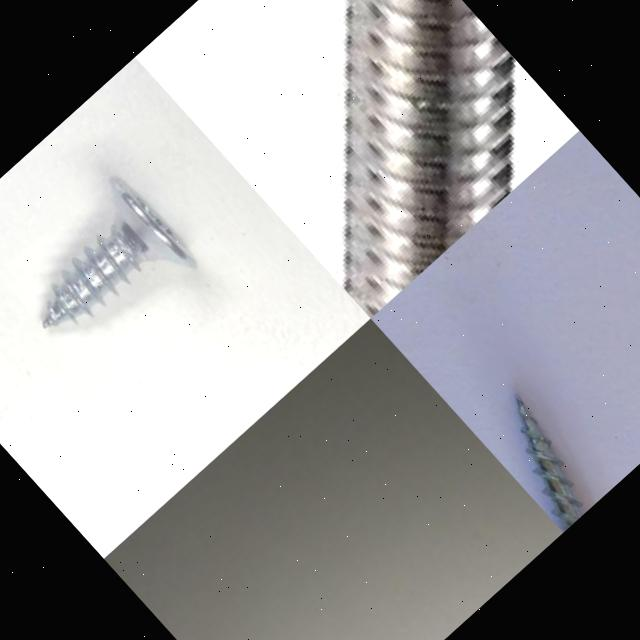Screw: (341, 0, 514, 318), (42, 174, 196, 327), (514, 393, 581, 531)
